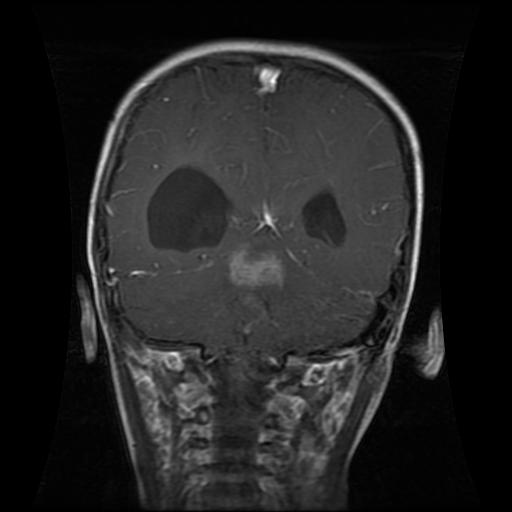Gliomia_tumour: (142, 161, 287, 295)
